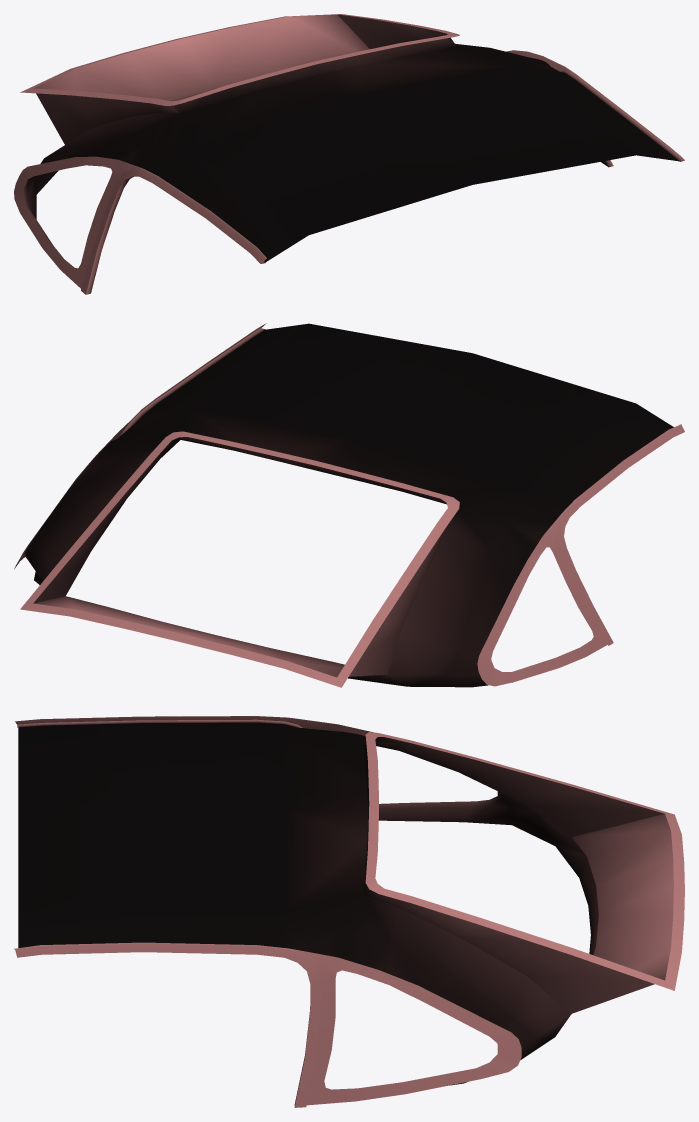
File: MX5_Roof04_Trim.fbx
3 views of the same model, one above another, from view 1: azimuth 30°, elevation 25°; view 2: azimuth 150°, elevation 25°; view 3: azimuth 270°, elevation 25° (orthographic). The views are drawn at different scales.
Visible parts, largest first — view 1: MX5_Roof04_Trim; view 2: MX5_Roof04_Trim; view 3: MX5_Roof04_Trim.
Boxes of the visible parts, box(x1,y1,x2,y2) form: MX5_Roof04_Trim: box(14, 14, 684, 294); MX5_Roof04_Trim: box(14, 323, 684, 687); MX5_Roof04_Trim: box(14, 716, 684, 1107).
Bounding box in the file's own units: 139 × 35.68 × 136.
